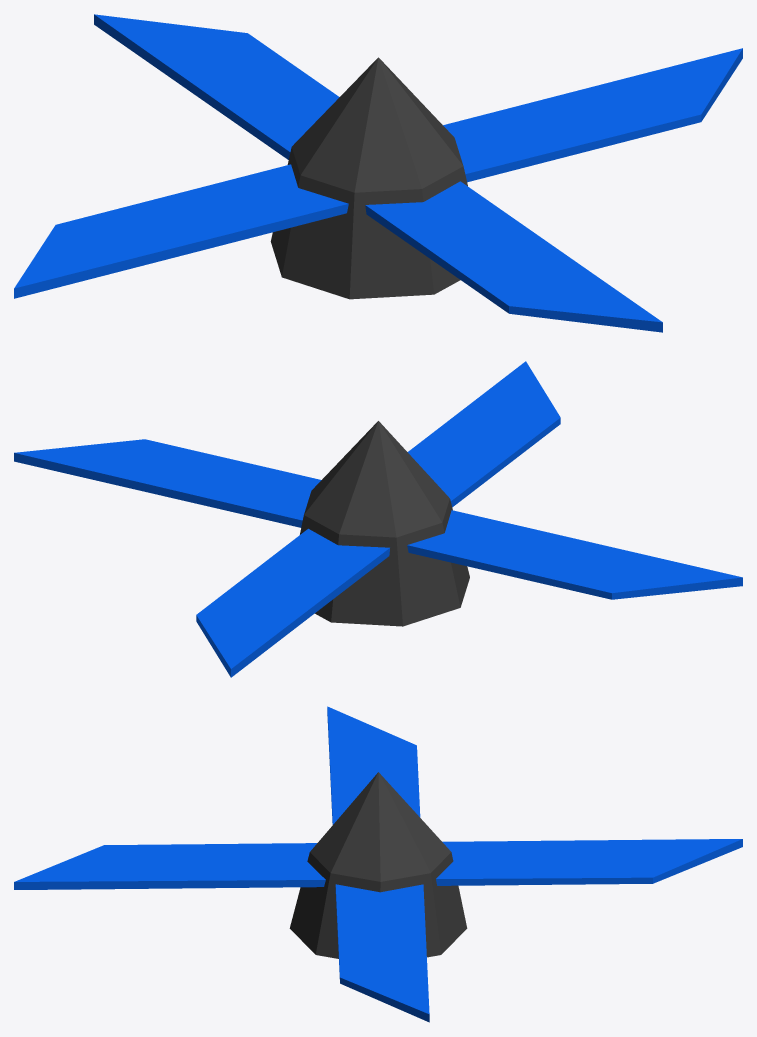
The model's file is propeller.obj.
3 renders of one model, top to bottom at view 1: azimuth 30°, elevation 25°; view 2: azimuth 150°, elevation 25°; view 3: azimuth 270°, elevation 25°, orthographic. The views are drawn at different scales.
Visible parts, largest first — view 1: propeller_prop_Цилиндр.001; view 2: propeller_prop_Цилиндр.001; view 3: propeller_prop_Цилиндр.001.
Boxes of the visible parts, box(x1,y1,x2,y2) form: propeller_prop_Цилиндр.001: box(14, 14, 742, 332); propeller_prop_Цилиндр.001: box(14, 361, 742, 677); propeller_prop_Цилиндр.001: box(14, 706, 742, 1022).
Size of the model in its own units: 2.31 by 0.5472 by 2.31.
